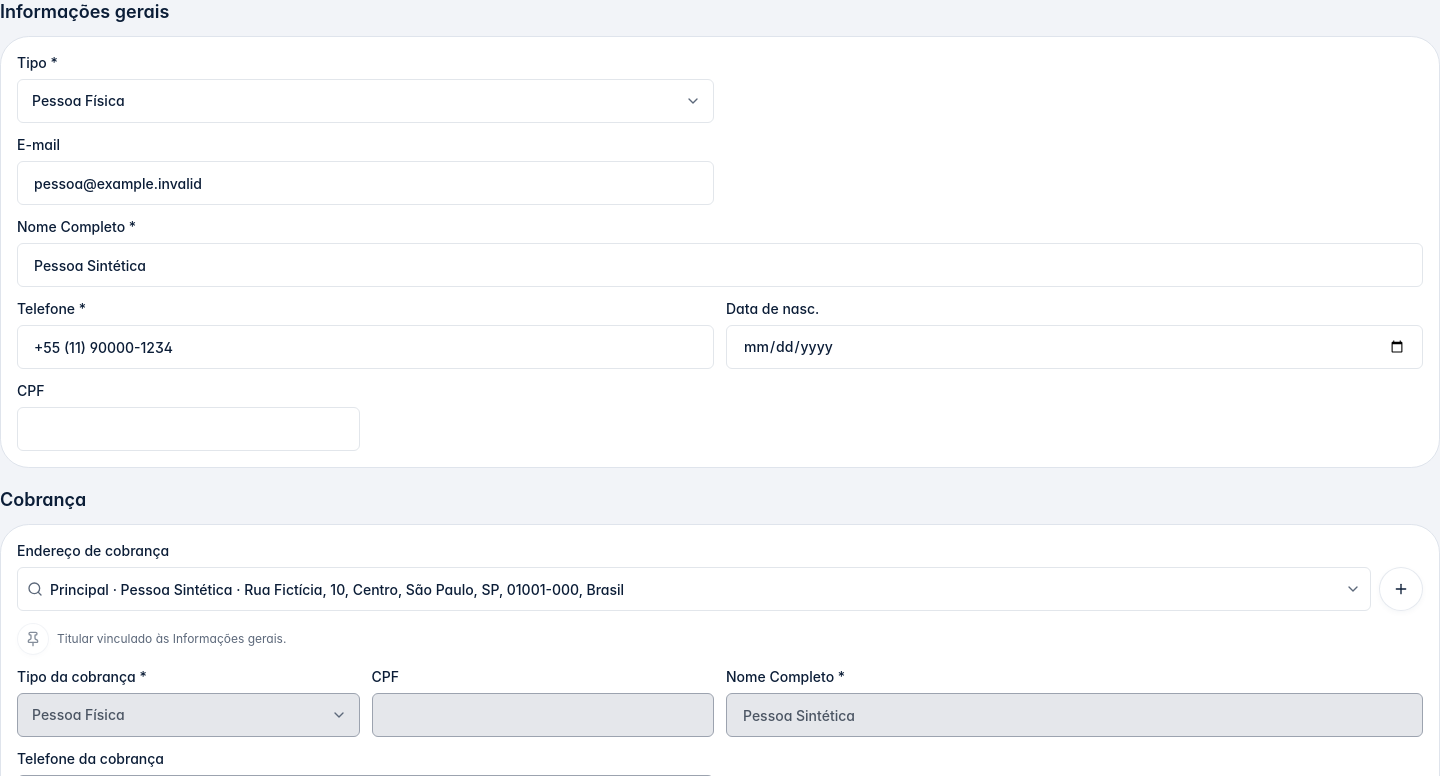
Test case: inclusão temporária e endereço postal único › cobra os campos obrigatórios e adiciona cobrança somente depois de completa
This screenshot has width=1440, height=776.
Click the button named "Adicionar endereço de cobrança".
click(1401, 589)  # box [1379,567,1423,611]
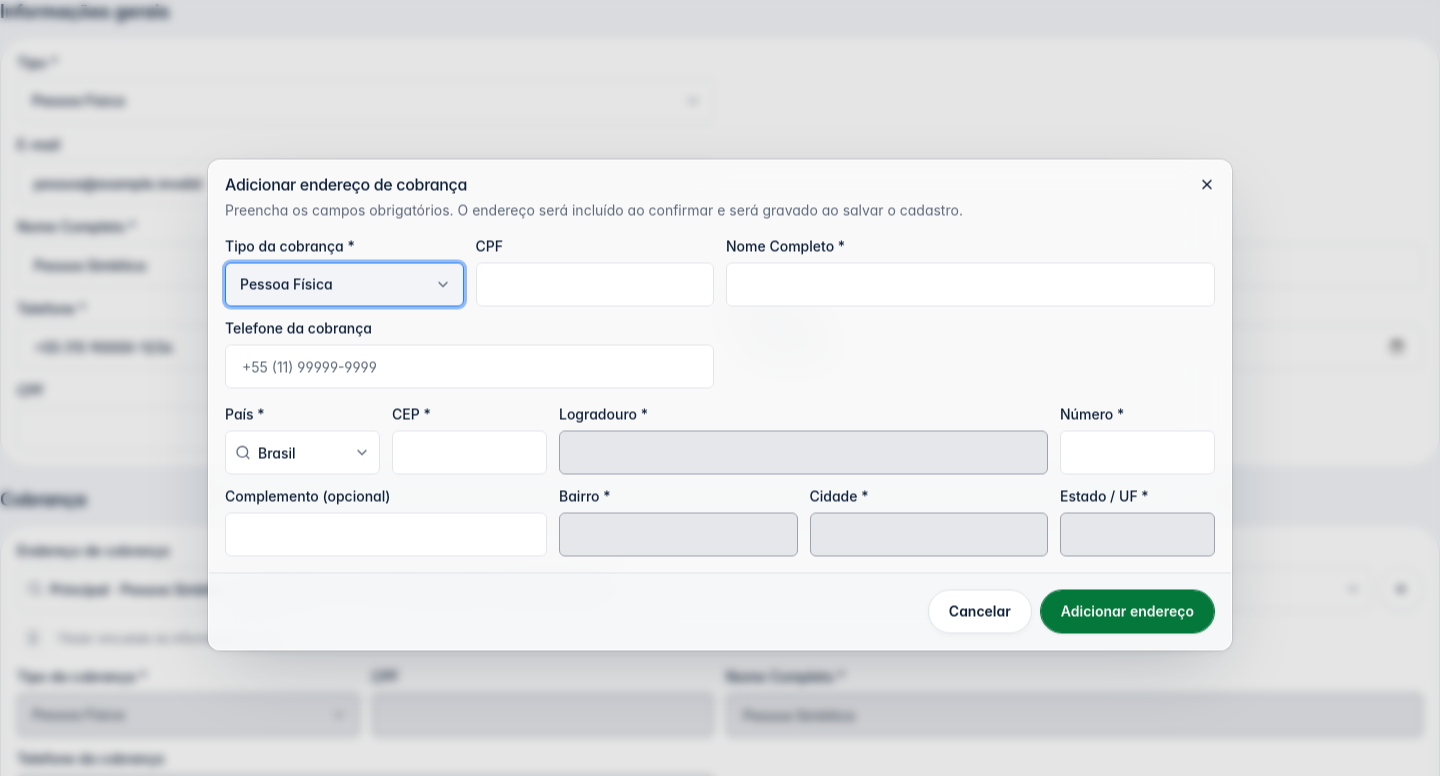
Click the button "Adicionar endereço".
click(1127, 612)  # box [1040,590,1215,634]
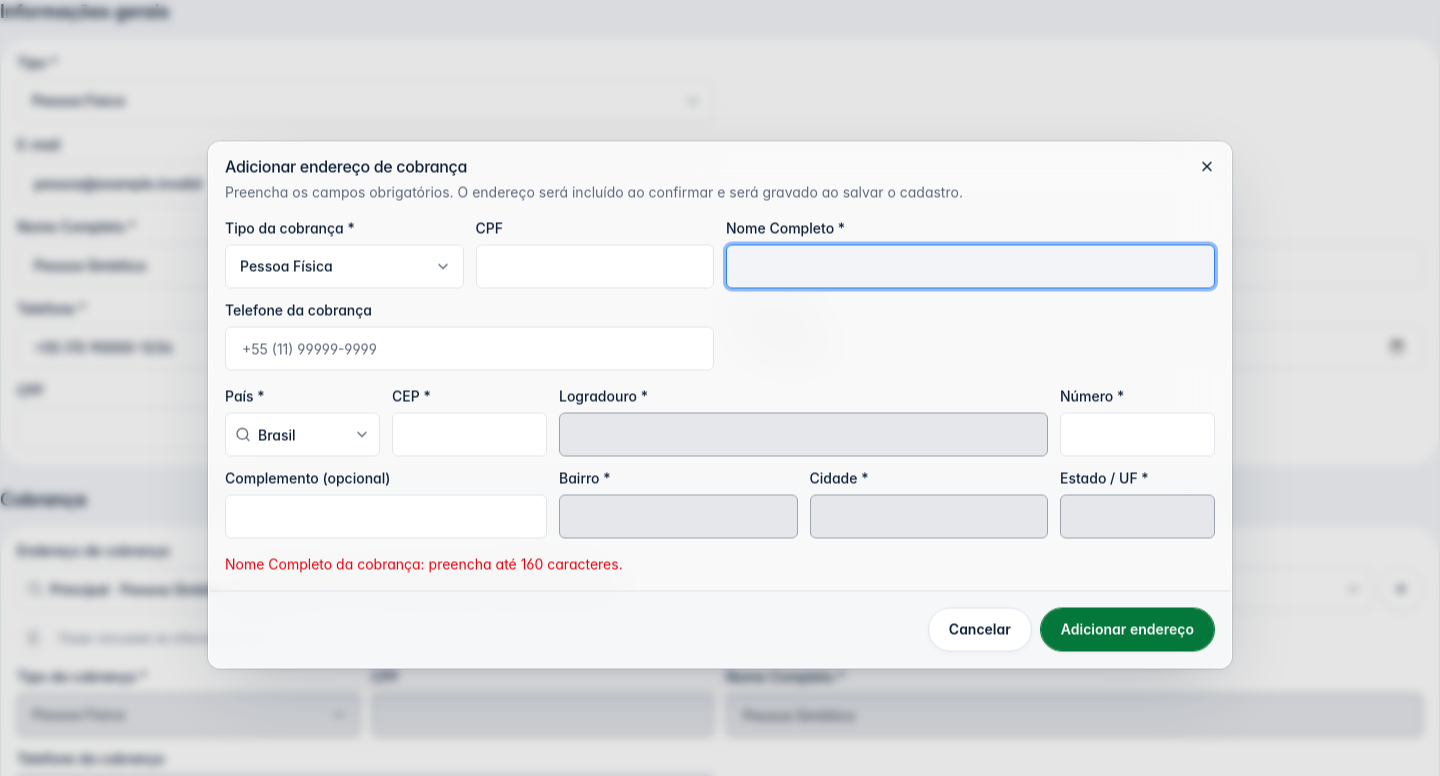
Now the message "Nome Completo da cobrança: preencha até 160 caracteres." is shown, box [225,556,623,572]
Type "Outra Titular" into the field labelled "Nome Completo *".
click(970, 266); type("Outra Titular")  # box [726,244,1215,288]
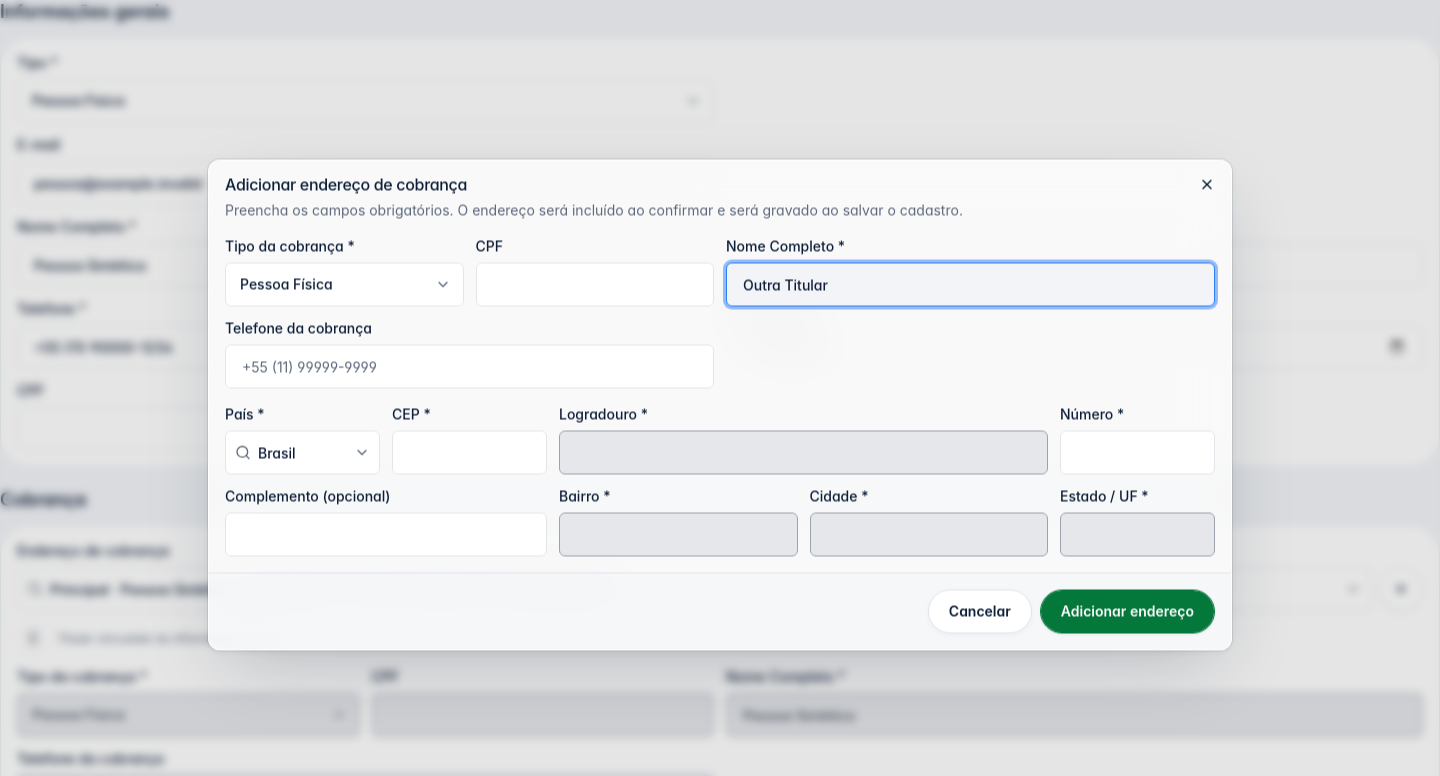
Type "01001000" into the field labelled "CEP *".
click(470, 452); type("01001000")  # box [392,430,547,474]
Leave the field labelled "CEP *", box [392,430,547,474]
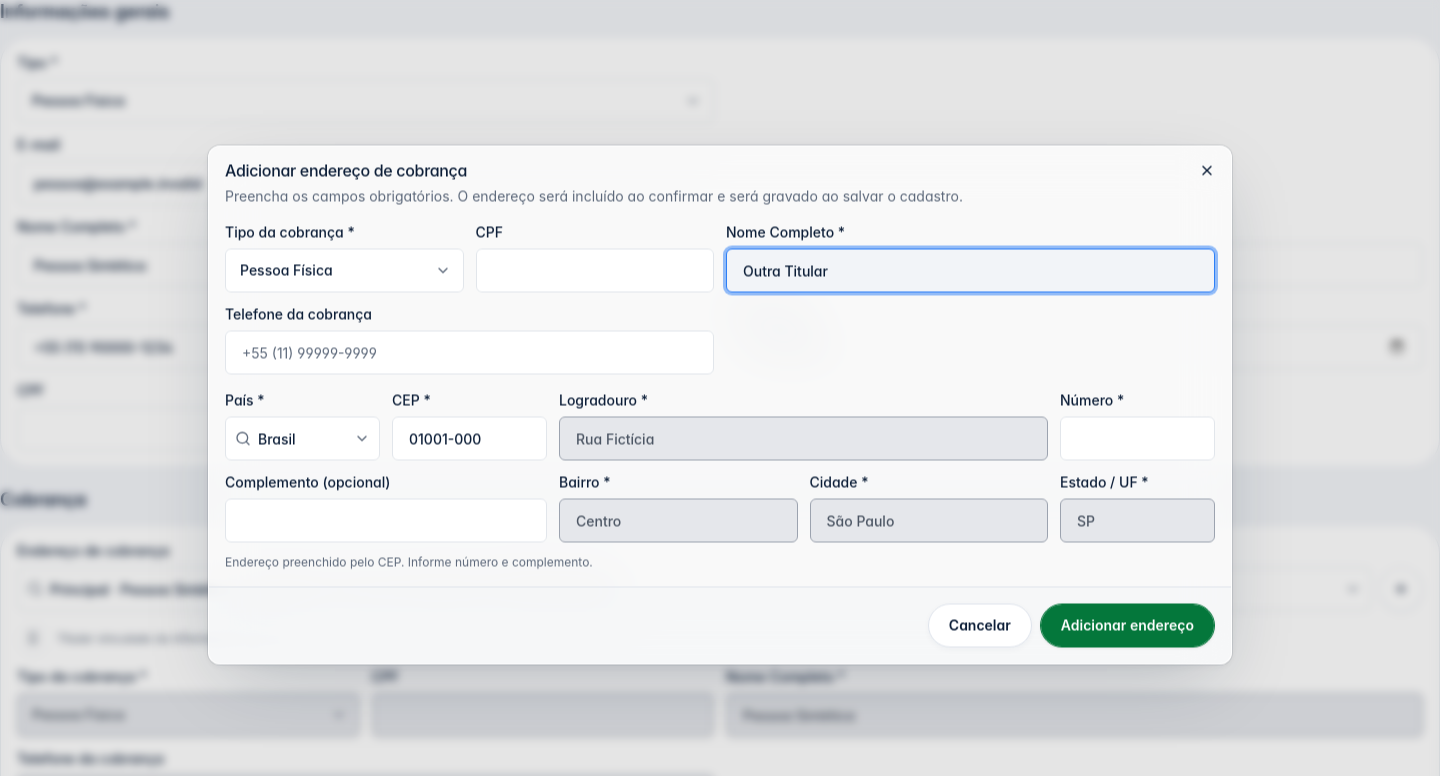
Now the field labelled "Logradouro *" holds "Rua Fictícia", box [559,416,1048,460]
Type "20" into the field labelled "Número *".
click(1138, 438); type("20")  # box [1060,416,1215,460]
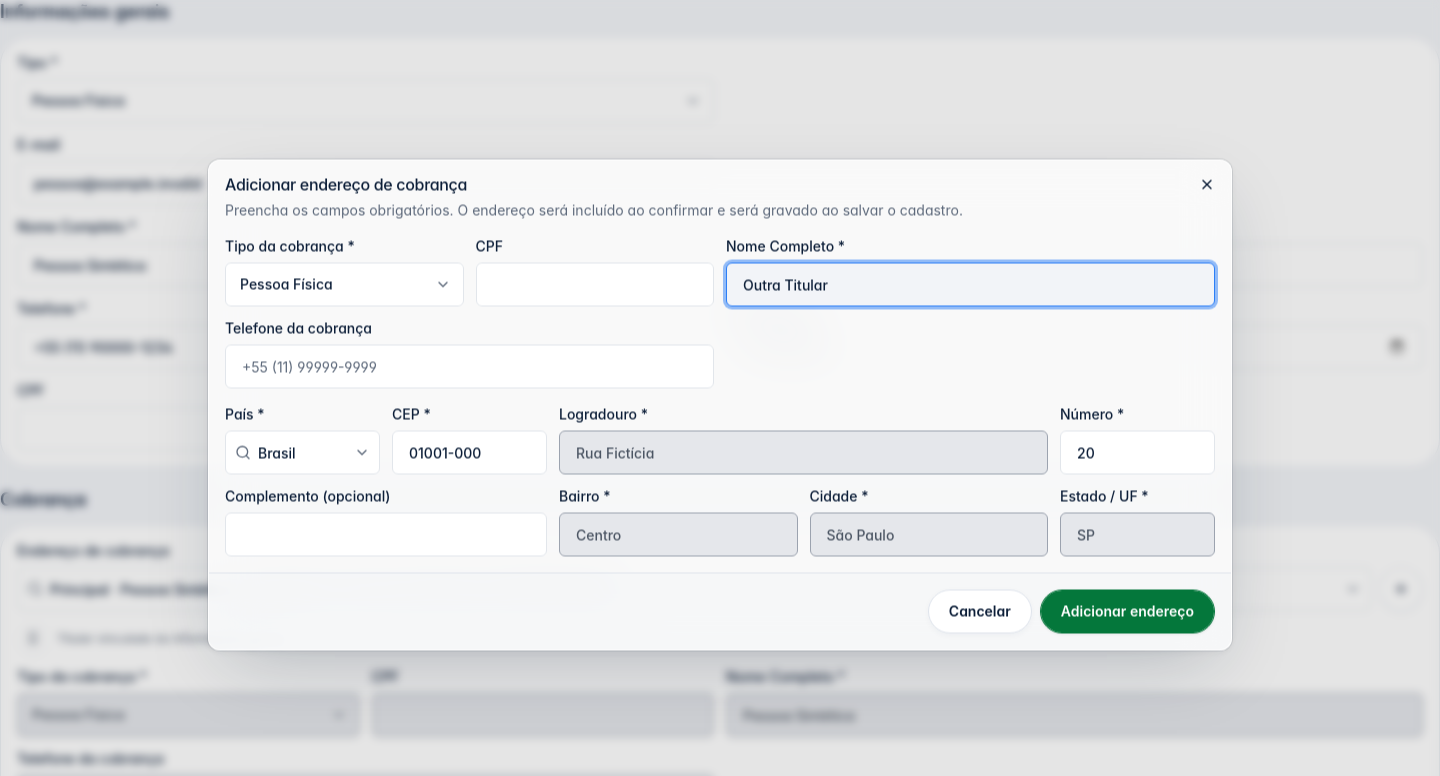
Type "Sala 2" into the field labelled "Complemento (opcional)".
click(386, 534); type("Sala 2")  # box [225,512,547,556]
Click the button "Adicionar endereço".
click(1127, 612)  # box [1040,590,1215,634]
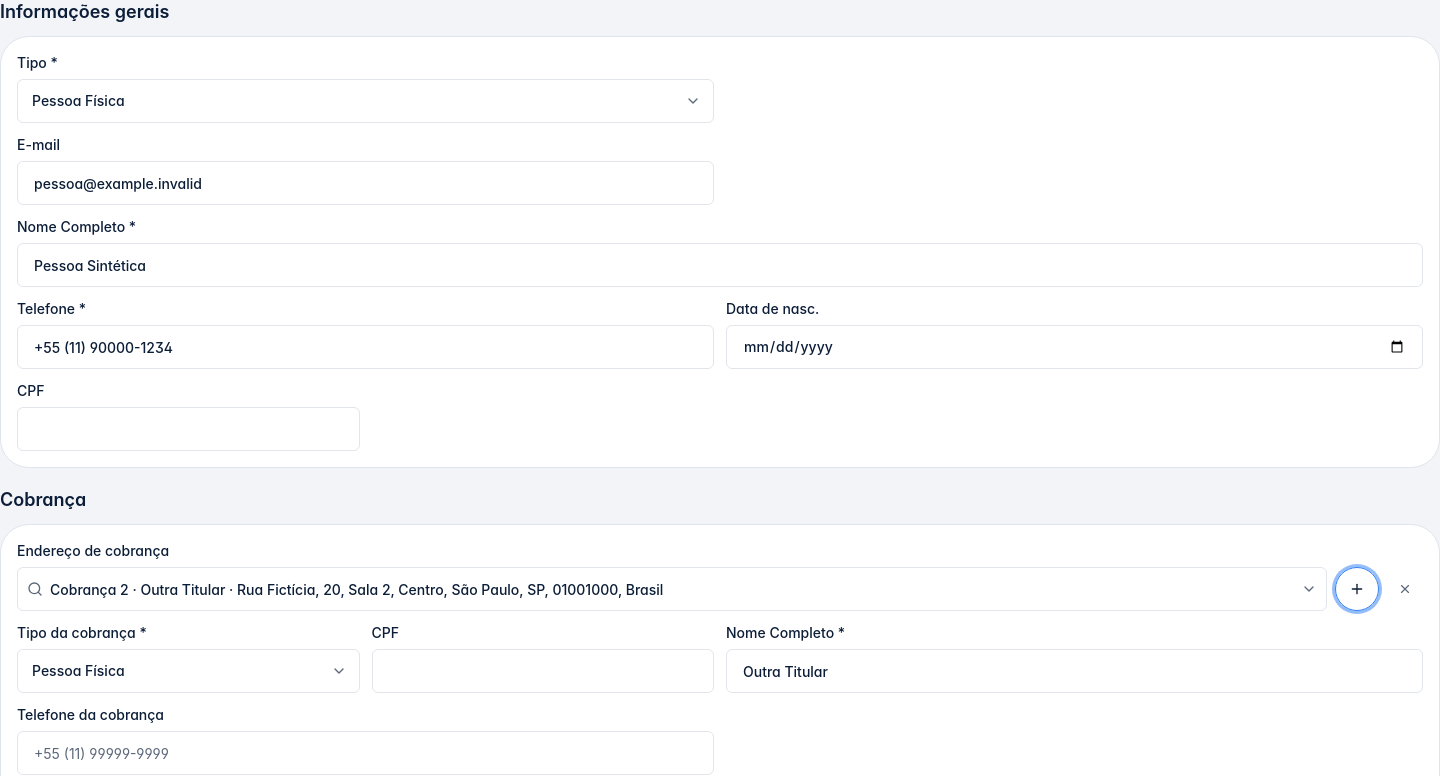
Now the dialog is gone
